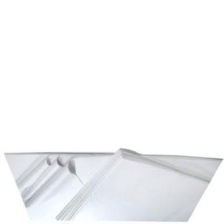tissue: (0, 148, 224, 223), (51, 145, 213, 224)
